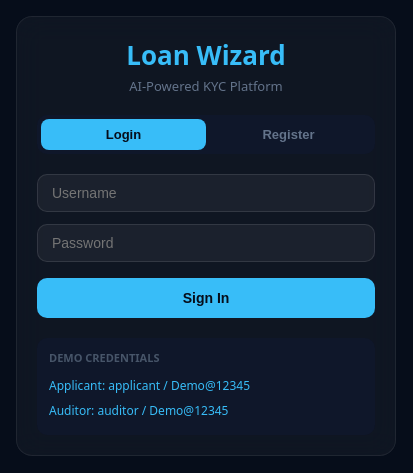
Test: clicking demo credential fills the form
The width and height of the screenshot is (413, 473).
Click the text "Applicant: applicant / Demo@12345" at [150, 386], box [49,377,250,394]
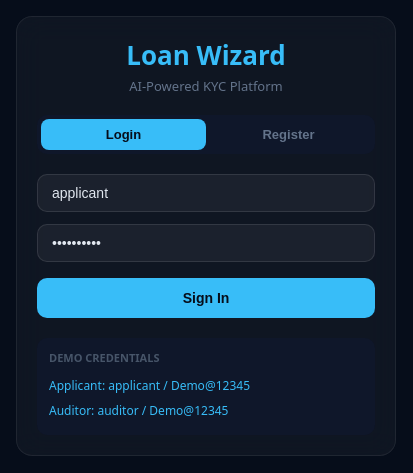
Check: the field with placeholder "Username" holds "applicant", box [37,174,375,212]
Check: the password field with placeholder "Password" holds "Demo@12345", box [37,224,375,262]
